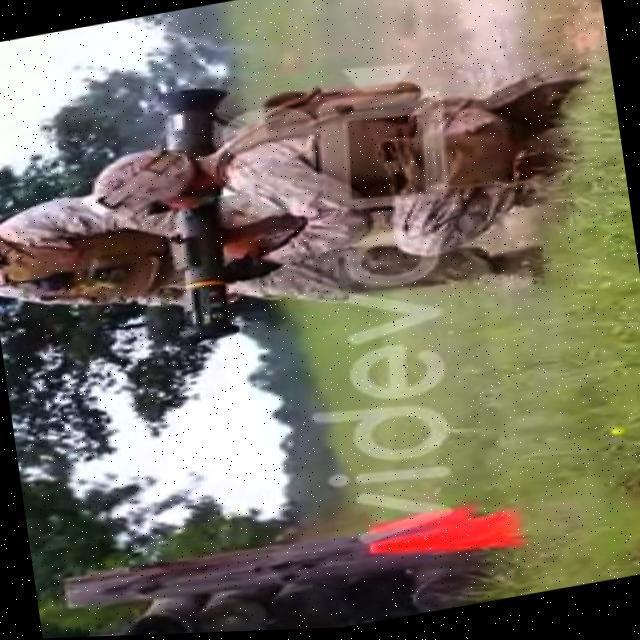rocket: (138, 83, 263, 352)
